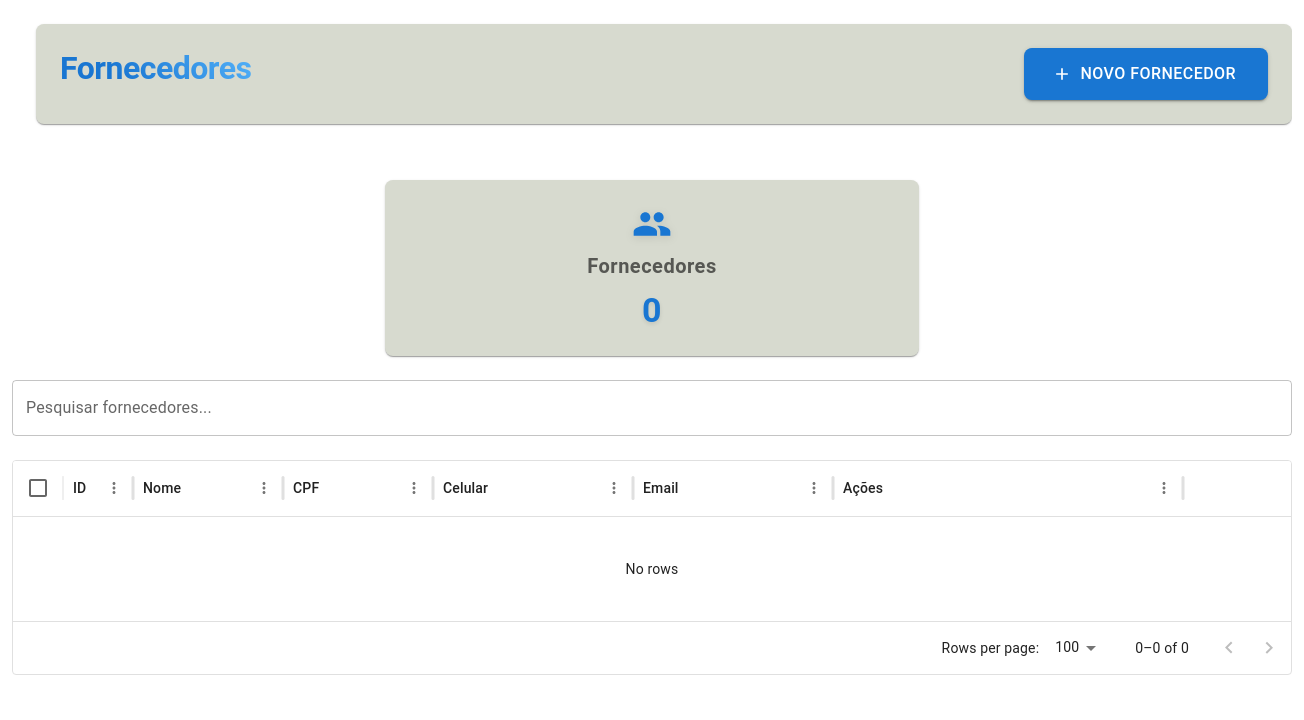
Test: Componente Cliente › Filtra dados corretamente
This screenshot has width=1304, height=720.
In the field with placeholder "Pesquisar fornecedores...": (652, 408) [12, 380, 1292, 436], type "Fornecedor1"
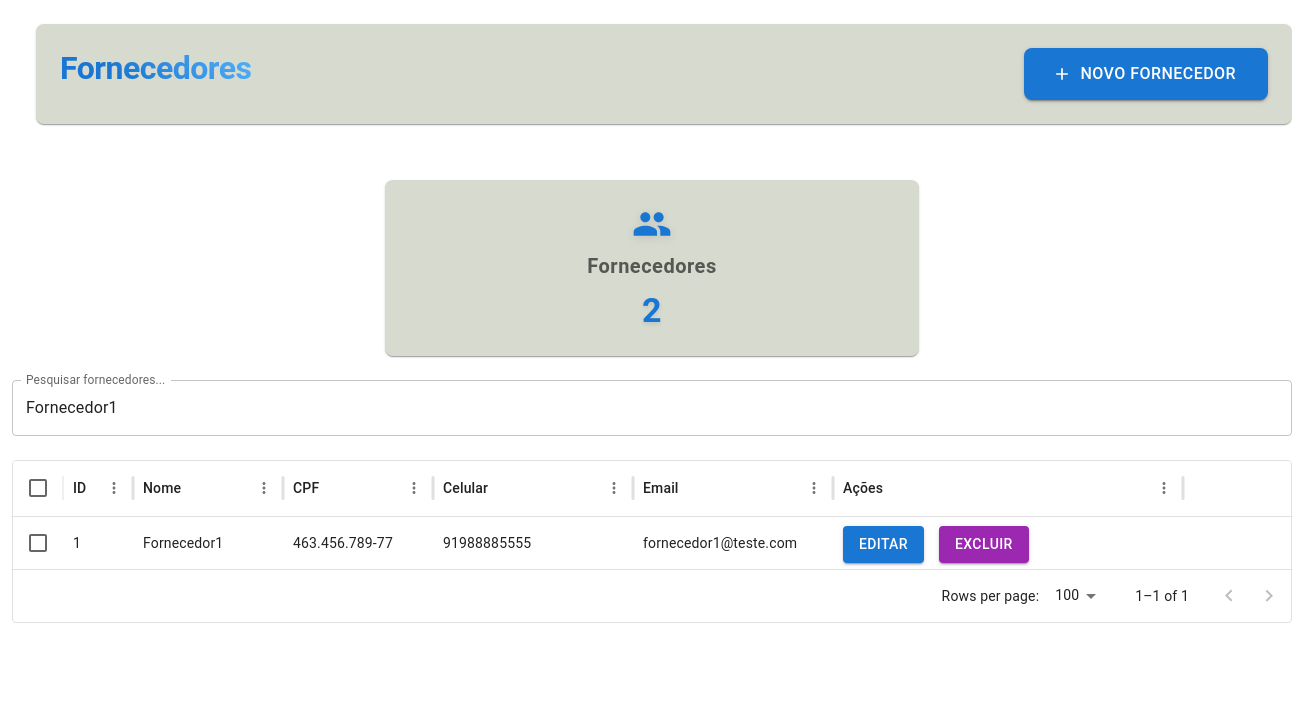
Expected: the number of rows is 2, [13, 461, 1291, 517]; [26, 526, 1029, 562]
Expected: the text "Fornecedor1" is shown, [143, 535, 223, 551]
